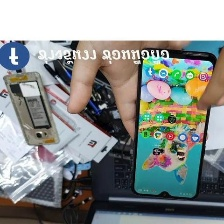phone: (128, 47, 220, 203), (0, 70, 62, 148)
